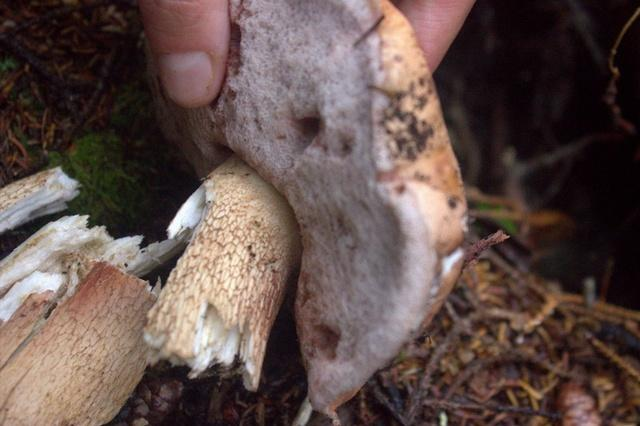Non-edible Mushroom: (227, 3, 476, 386), (0, 157, 155, 426)
